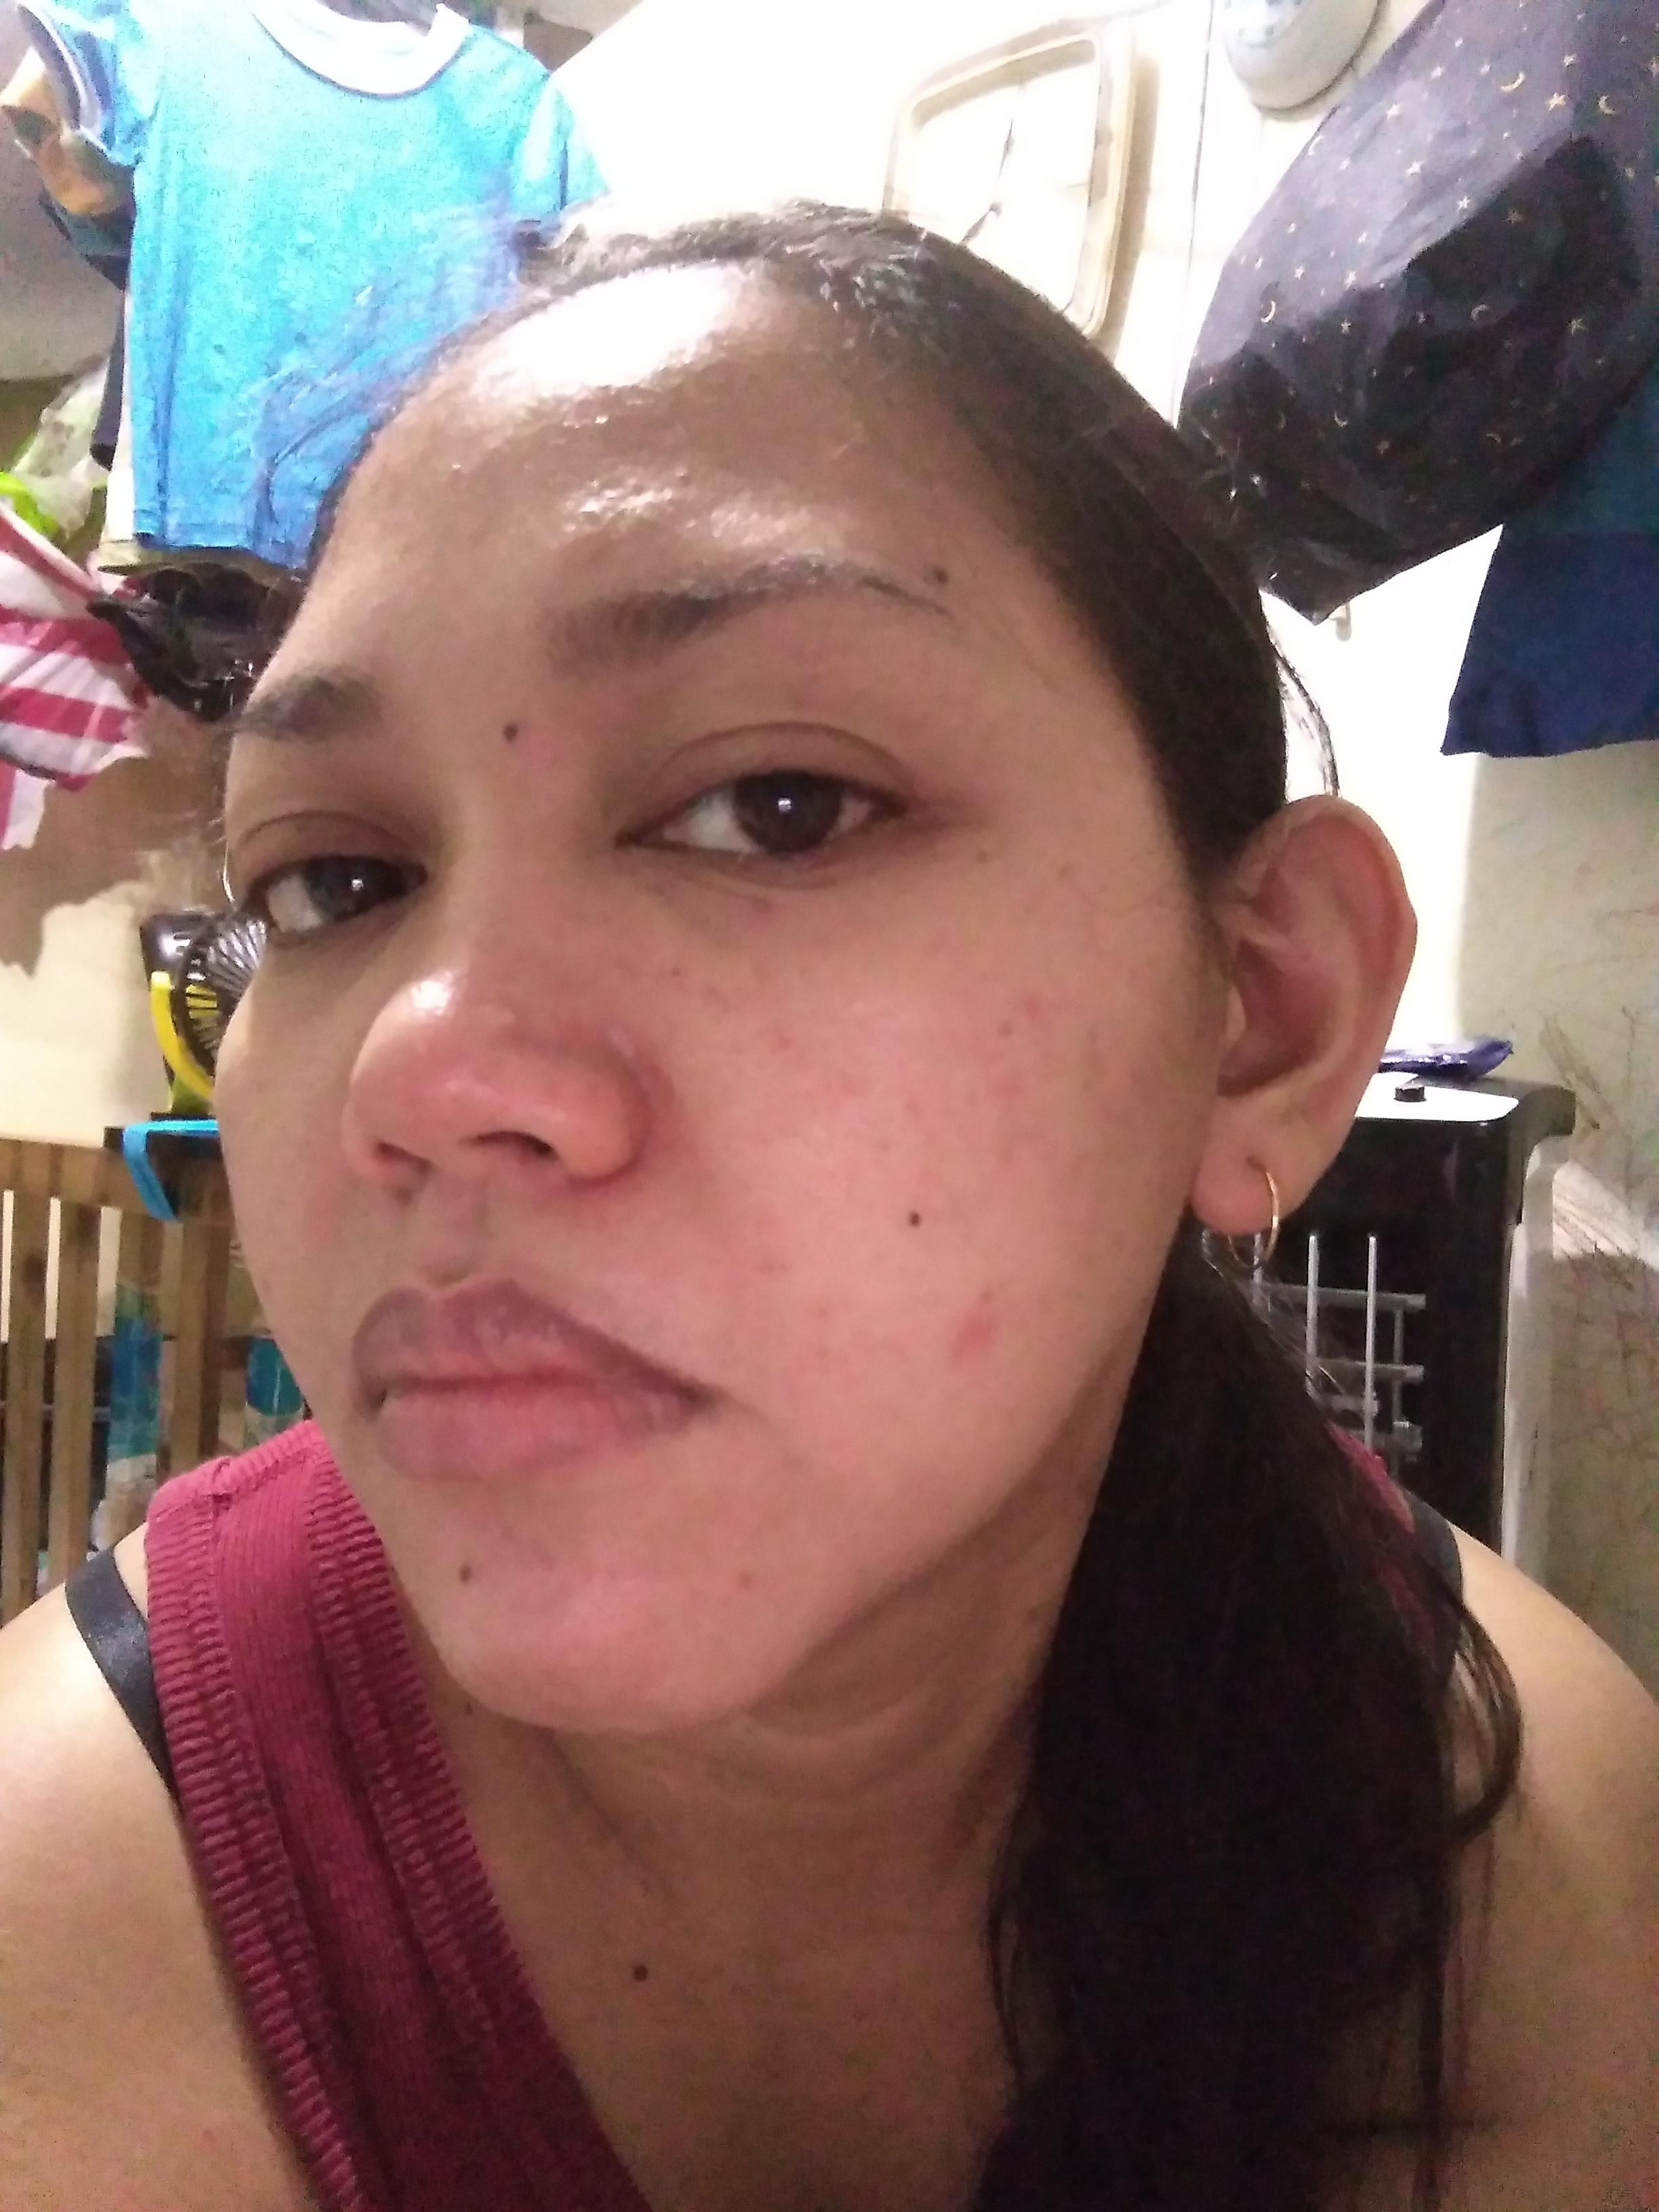Acne: (941, 1298, 999, 1397), (1019, 972, 1065, 1035), (833, 1073, 875, 1116), (491, 988, 533, 1031), (981, 1141, 1021, 1186), (723, 1569, 763, 1608), (760, 1022, 802, 1059)
Eyebags: (626, 822, 899, 981)
